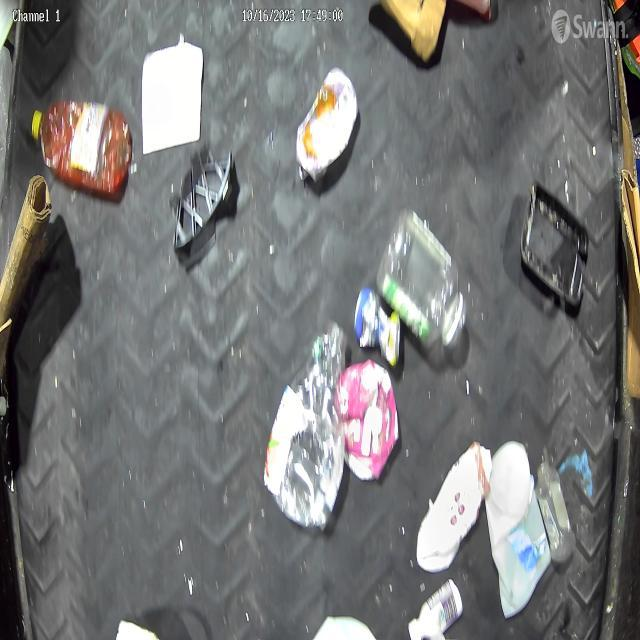can: (352, 282, 400, 362)
plastic_bottle: (261, 325, 349, 529)
